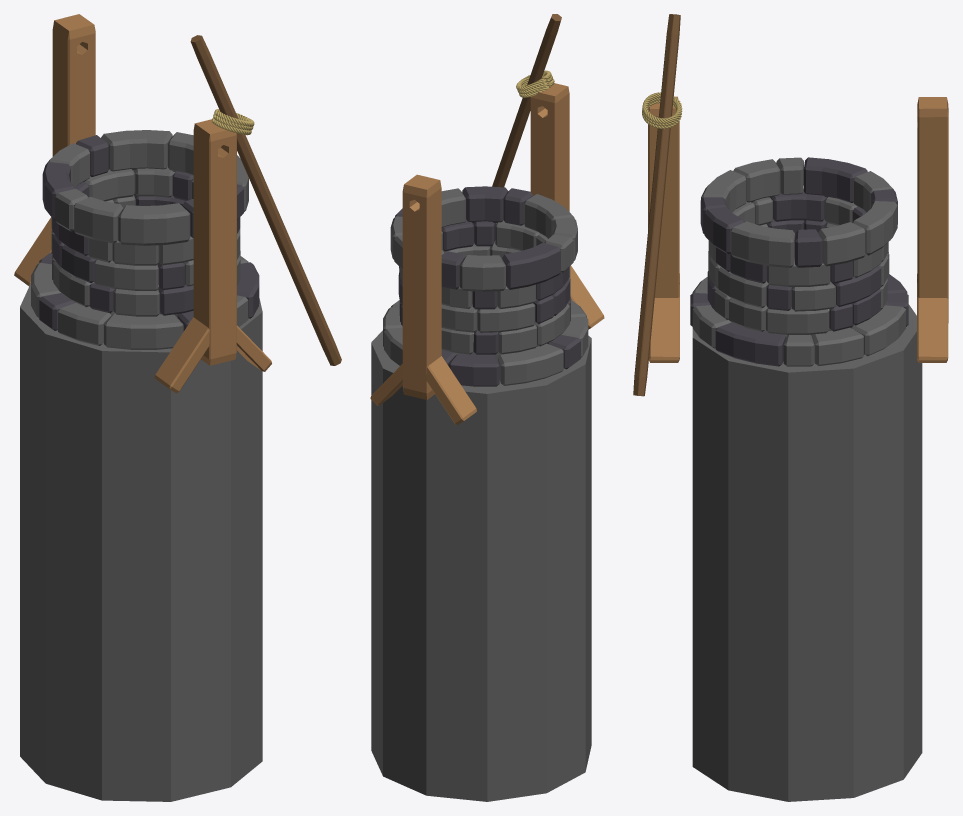
File: Well.fbx
3 views of the same model, side by side, from view 1: azimuth 30°, elevation 25°; view 2: azimuth 150°, elevation 25°; view 3: azimuth 270°, elevation 25° (orthographic). The views are drawn at different scales.
Parts seen in each view (by area): view 1: Cylinder.009, Wooden block 2, Cube.009, Wooden block, Cube.001, Stick, Cube.007, Stones.009, Cube.003, Cube.005, Stones.007, Stones.005 (+2 smaller); view 2: Cylinder.009, Wooden block, Cube.009, Wooden block 2, Stones.009, Cube.001, Cube.005, Cube.007, Cube.003, Stones.008, Stones.005, Stick (+2 smaller); view 3: Cylinder.009, Cube.009, Wooden block, Wooden block 2, Cube.001, Stick, Stones.009, Cube.007, Stones.005, Cube.003, Stones.008, Cube.005 (+2 smaller).
Boxes of the visible parts, box(x1,y1,x2,y2) form: Cylinder.009: box(20, 283, 262, 801); Wooden block 2: box(154, 119, 271, 393); Cube.009: box(48, 130, 248, 245); Wooden block: box(14, 14, 95, 286); Cube.001: box(31, 256, 248, 349); Stick: box(190, 35, 341, 365); Cube.007: box(51, 167, 193, 265); Stones.009: box(42, 135, 243, 238); Cube.003: box(52, 251, 240, 316); Cube.005: box(51, 195, 240, 290); Stones.007: box(53, 191, 185, 290); Stones.005: box(39, 252, 259, 331); Cylinder.009: box(371, 330, 591, 801); Wooden block: box(370, 174, 476, 425); Cube.009: box(390, 188, 577, 291); Wooden block 2: box(530, 83, 604, 329); Stones.009: box(395, 186, 560, 289); Cube.001: box(383, 300, 588, 385); Cube.005: box(399, 240, 570, 332); Cube.007: box(400, 220, 570, 308); Cube.003: box(441, 303, 569, 354); Stones.008: box(399, 219, 569, 309); Stones.005: box(441, 335, 580, 386); Stick: box(492, 14, 561, 187); Cylinder.009: box(692, 304, 922, 801); Cube.009: box(701, 157, 897, 267); Wooden block: box(917, 97, 948, 362); Wooden block 2: box(648, 96, 679, 362); Cube.001: box(692, 277, 905, 366); Stick: box(633, 14, 680, 396); Stones.009: box(700, 157, 897, 267); Cube.007: box(708, 197, 888, 286); Stones.005: box(690, 274, 908, 366); Cube.003: box(714, 278, 887, 334); Stones.008: box(716, 188, 866, 283); Cube.005: box(708, 223, 889, 311).
Size of the model in its own units: 258 by 870 by 339.
